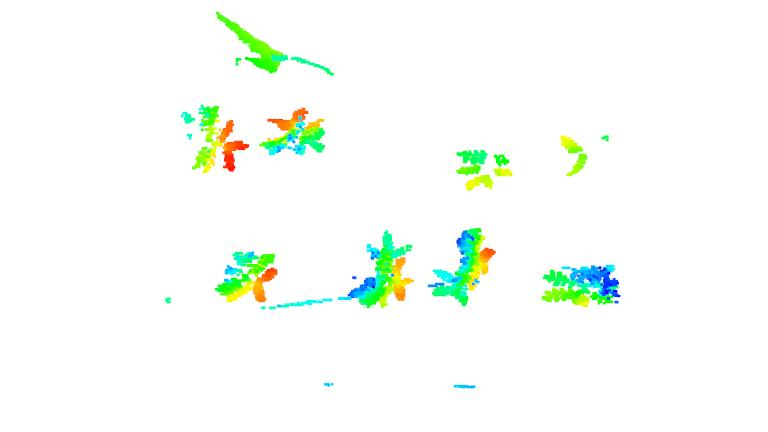chickpea: (346, 229, 414, 312), (429, 226, 496, 308), (180, 105, 248, 174), (542, 263, 623, 308), (256, 106, 326, 158), (214, 248, 279, 304), (453, 148, 514, 188), (557, 133, 588, 178)
